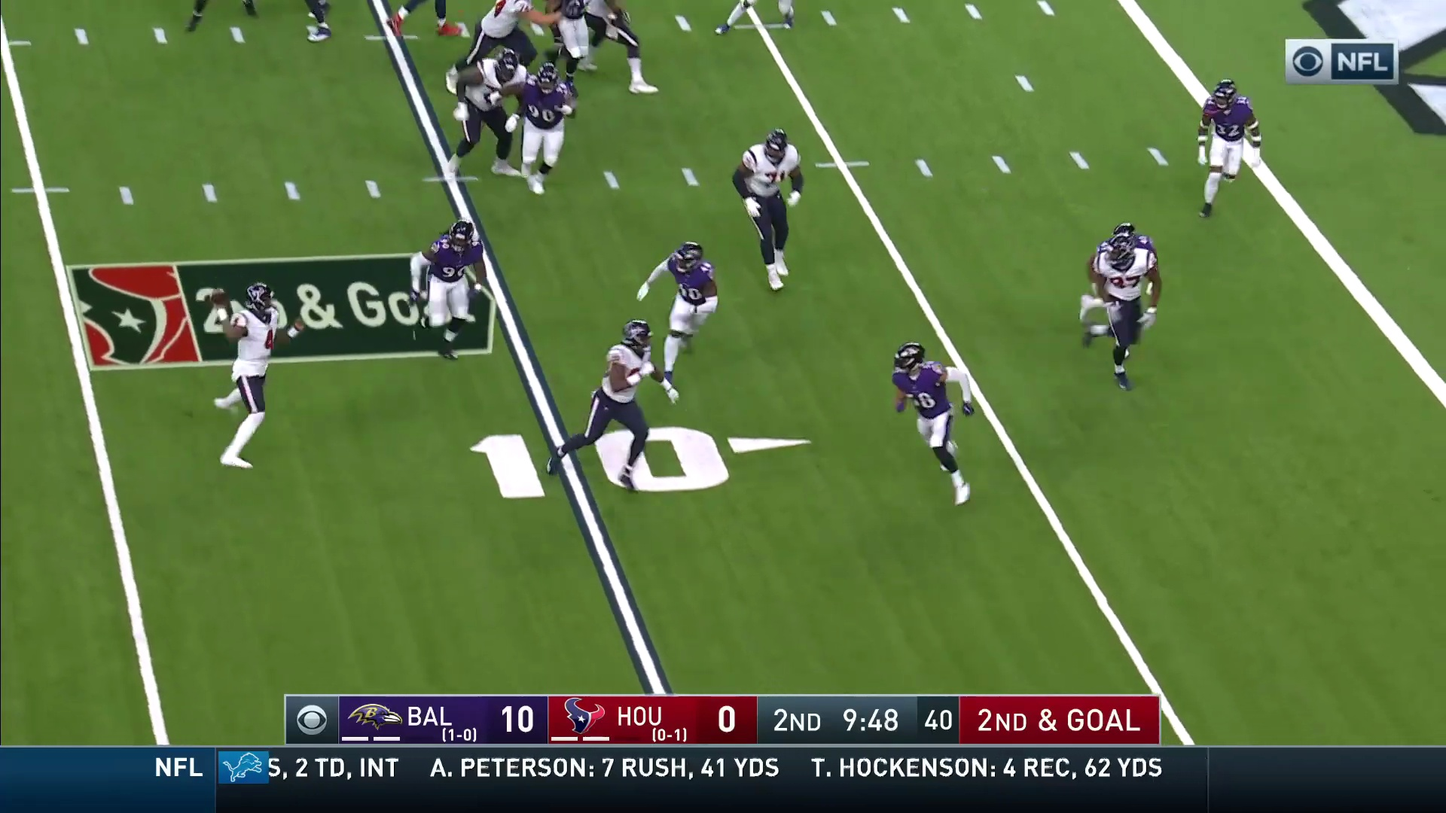Player: (200, 285, 280, 472), (1082, 222, 1160, 386), (586, 317, 652, 487), (733, 128, 801, 289), (653, 242, 717, 394), (455, 15, 532, 134), (411, 220, 483, 344), (1198, 79, 1260, 216), (452, 49, 516, 167), (522, 63, 574, 193), (471, 0, 536, 85), (552, 0, 591, 68)
